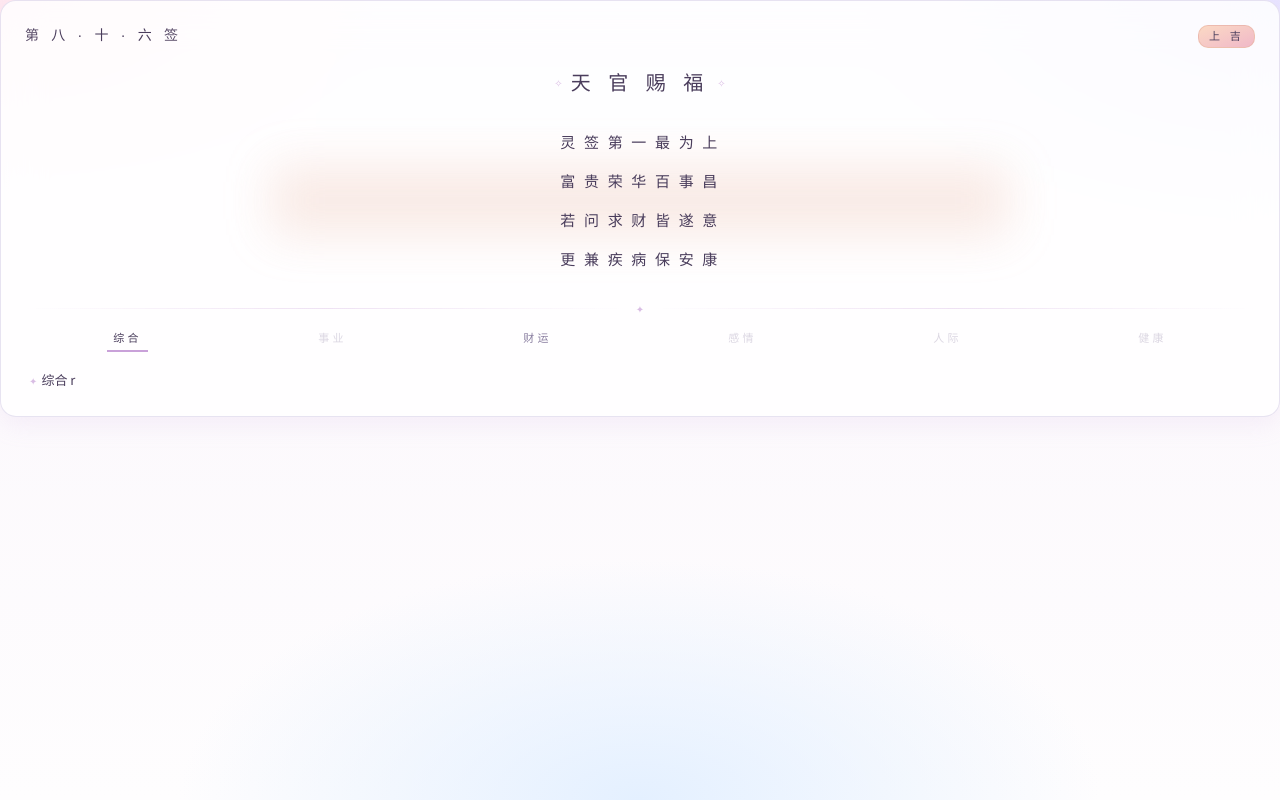
Test: SlipResultCard (design §7) › 点击 tab 切换 reading
This screenshot has width=1280, height=800.
Click the tab with test id "slip-dim-财运".
click(538, 341)  # box [517,330,558,352]
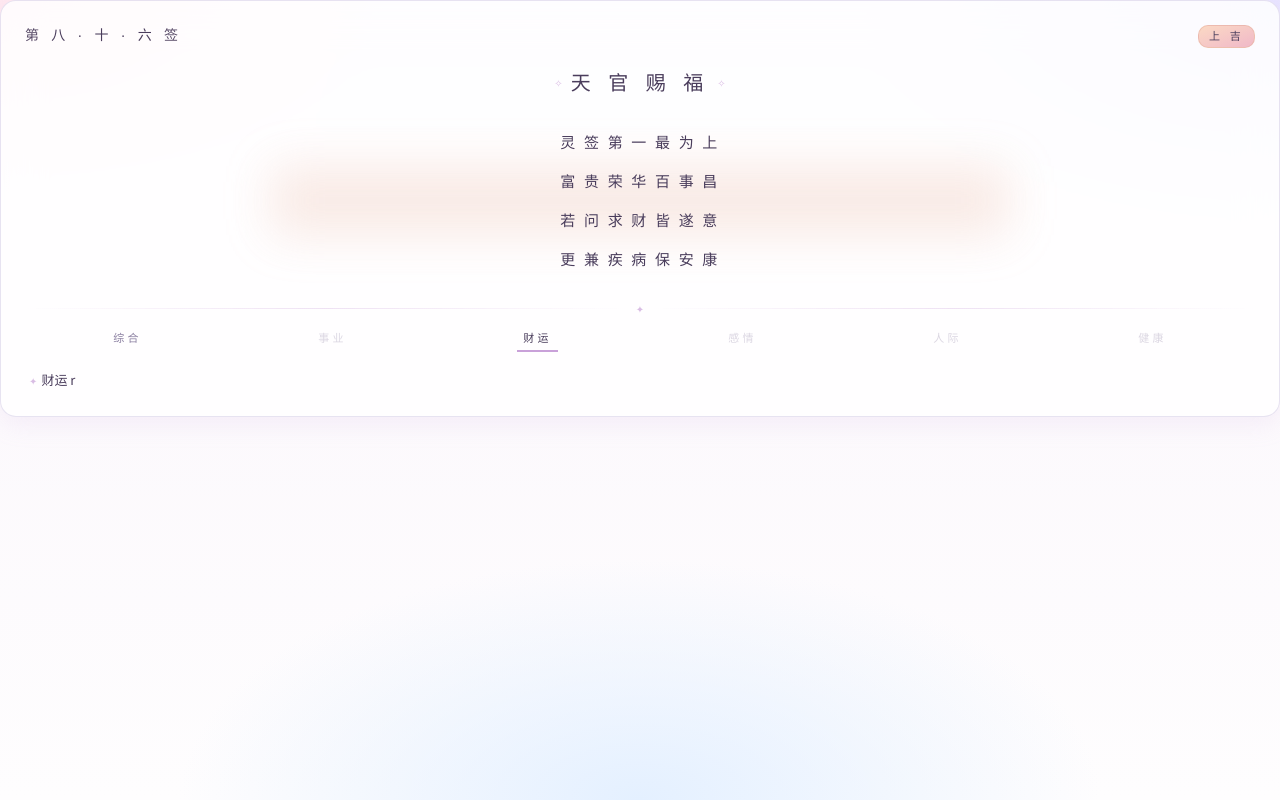
expect the element with test id "slip-reading" shows "财运 r": met, box [41,370,75,389]
